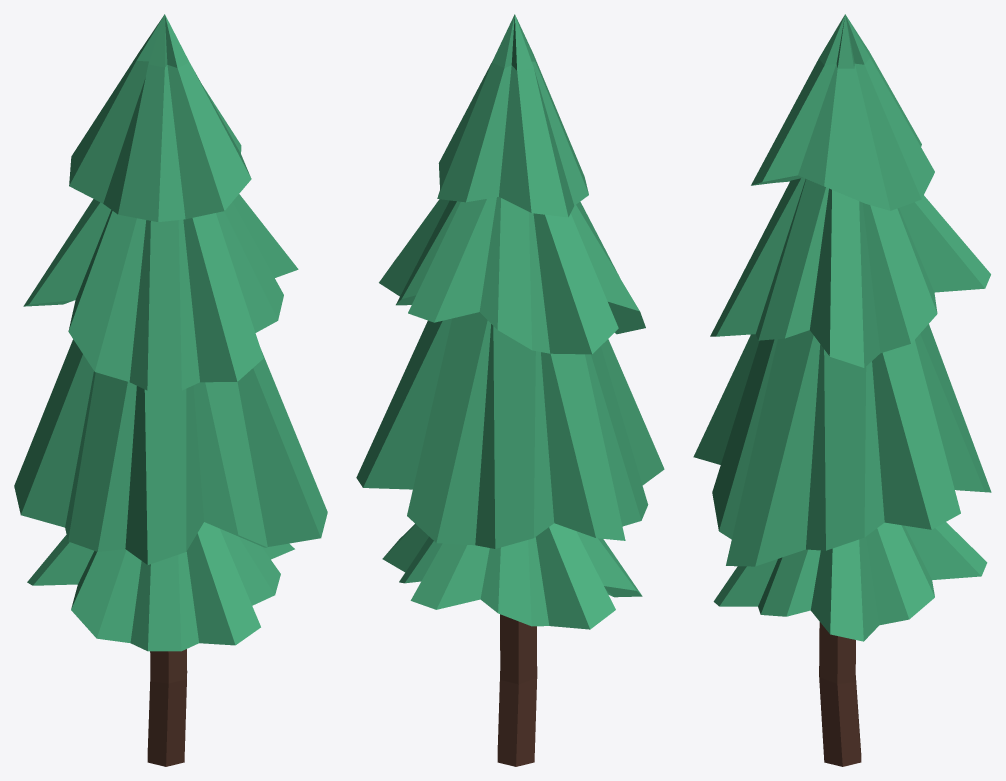
Rendered from Tree_Type5_4.fbx.
3 renders of one model, left to right at view 1: azimuth 30°, elevation 25°; view 2: azimuth 150°, elevation 25°; view 3: azimuth 270°, elevation 25°, orthographic.
Visible parts, largest first — view 1: Tree_Type5_4; view 2: Tree_Type5_4; view 3: Tree_Type5_4.
Boxes of the visible parts, x1,y1,x2,y2 form: Tree_Type5_4: (14,14,327,766); Tree_Type5_4: (356,14,664,766); Tree_Type5_4: (693,14,991,766).
Size of the model in its own units: 206 by 577 by 210.
